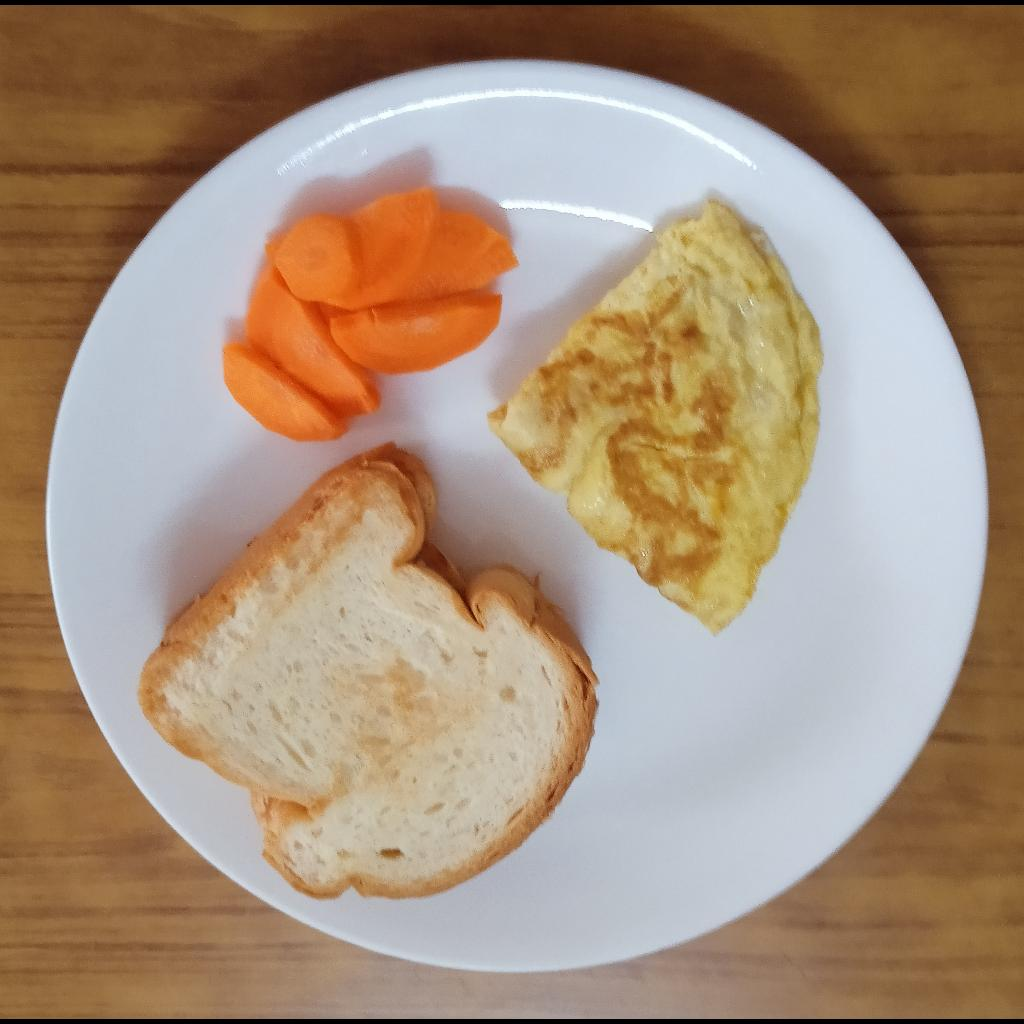bread: (135, 434, 599, 903)
carrot: (220, 181, 527, 445)
egg-poached: (495, 198, 828, 637)
